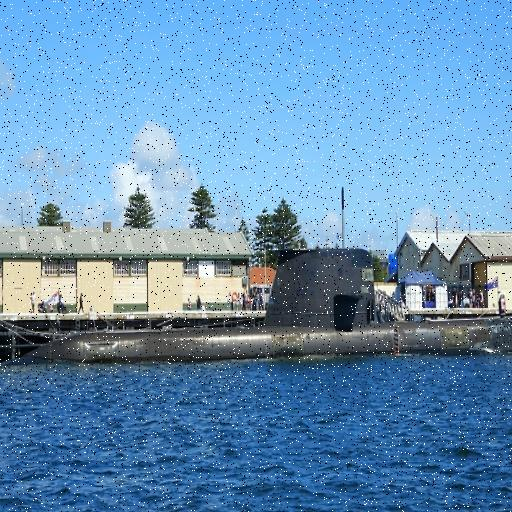submarine: (1, 178, 512, 357)
